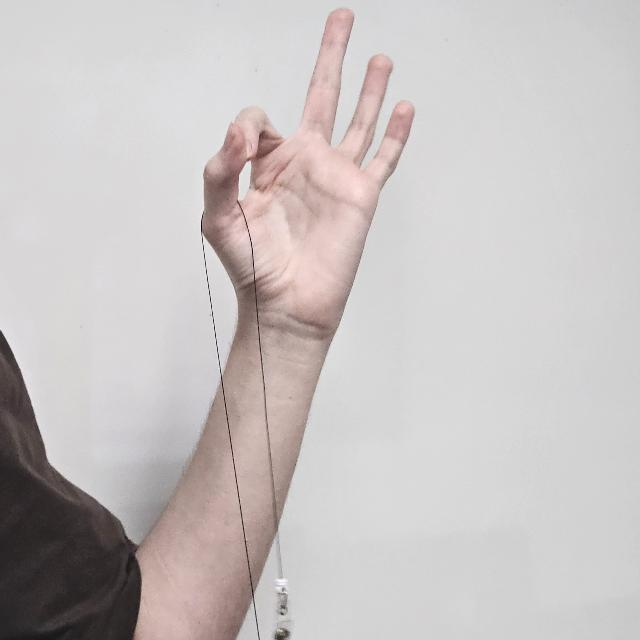Bolinha: (204, 9, 416, 341)
